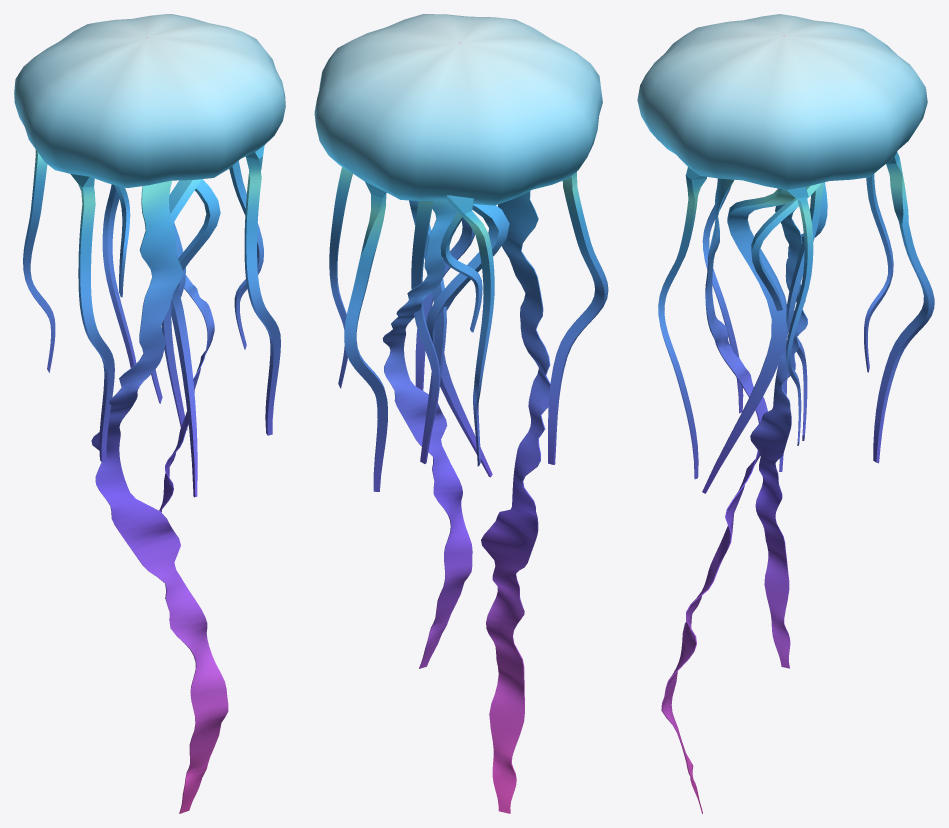
The model's file is JellyFish04.fbx.
3 renders of one model, left to right at view 1: azimuth 30°, elevation 25°; view 2: azimuth 150°, elevation 25°; view 3: azimuth 270°, elevation 25°, orthographic. The views are drawn at different scales.
Visible parts, largest first — view 1: JellyFish04; view 2: JellyFish04; view 3: JellyFish04.
Boxes of the visible parts, x1,y1,x2,y2 form: JellyFish04: (14, 14, 285, 813); JellyFish04: (314, 14, 608, 813); JellyFish04: (637, 14, 934, 813).
Size of the model in its own units: 0.4336 by 1.28 by 0.4439.
Materials: 1 (1 with a texture image).
